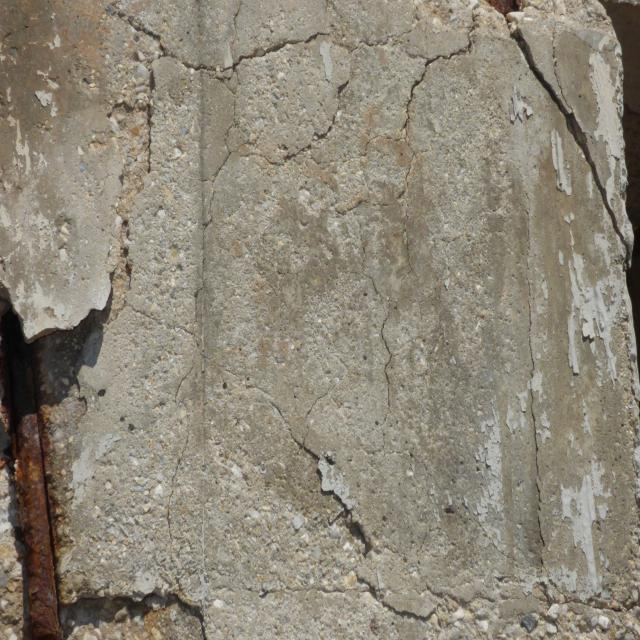corrosion: (0, 314, 72, 639)
